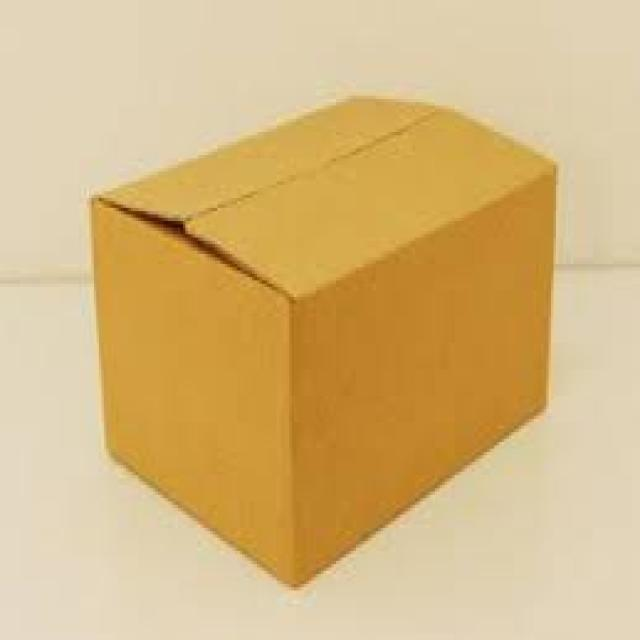cardboard: (86, 93, 556, 588), (284, 162, 551, 584), (94, 99, 553, 294), (89, 195, 287, 587)
